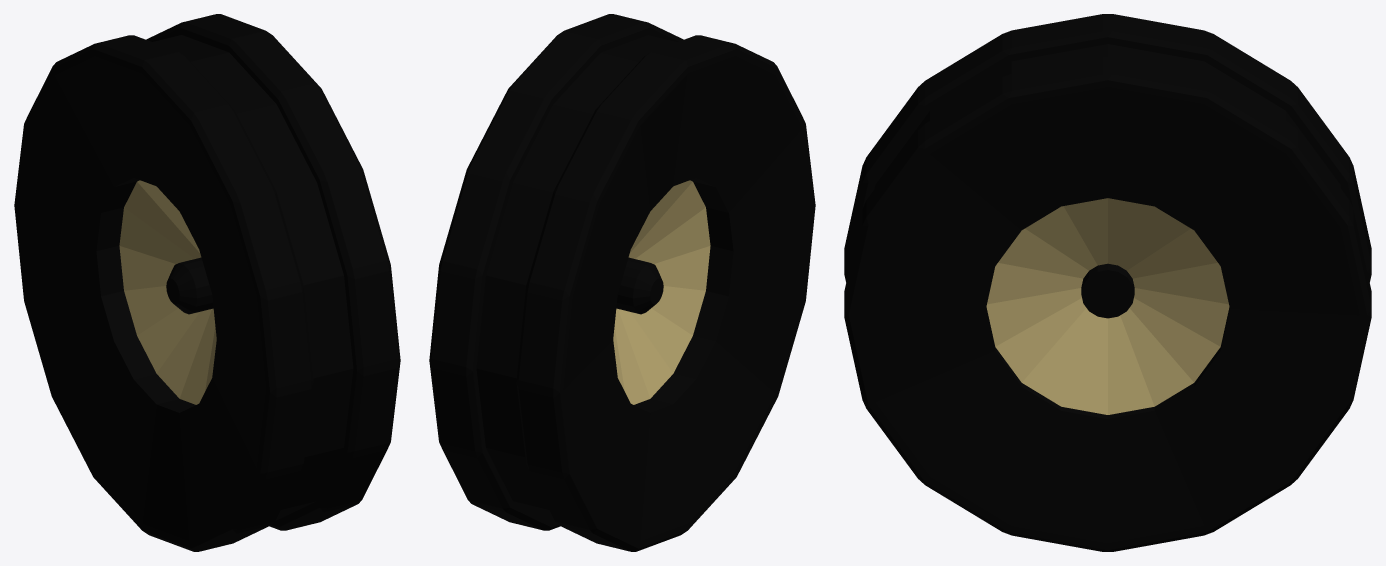
Rendered from Lav25Tire.fbx.
3 renders of one model, left to right at view 1: azimuth 30°, elevation 25°; view 2: azimuth 150°, elevation 25°; view 3: azimuth 270°, elevation 25°, orthographic.
Parts seen in each view (by area): view 1: Circle.004; view 2: Circle.004; view 3: Circle.004.
Boxes of the visible parts, x1,y1,x2,y2 form: Circle.004: [14, 14, 400, 551]; Circle.004: [429, 14, 815, 551]; Circle.004: [844, 14, 1371, 551].
Bounding box in the file's own units: 38.47 × 133 × 133.
